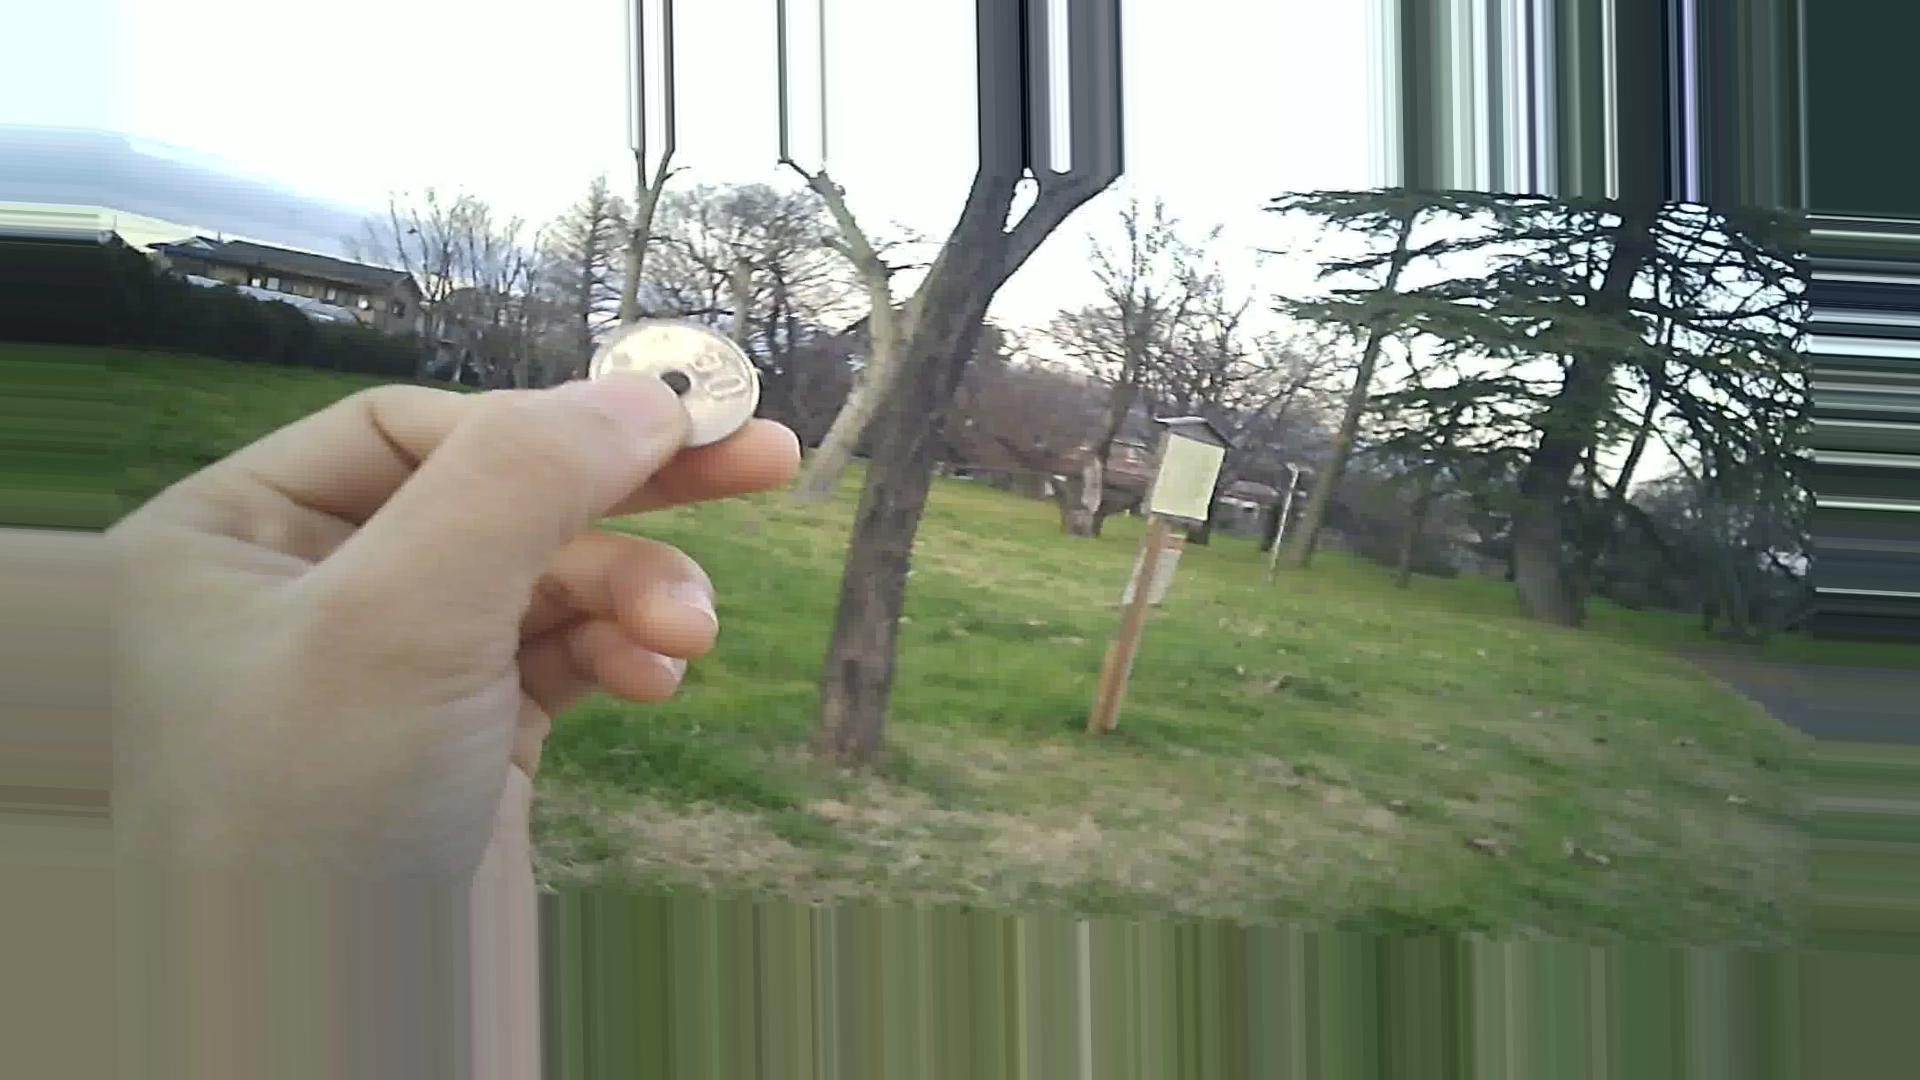50 Yen: (582, 320, 758, 462)
